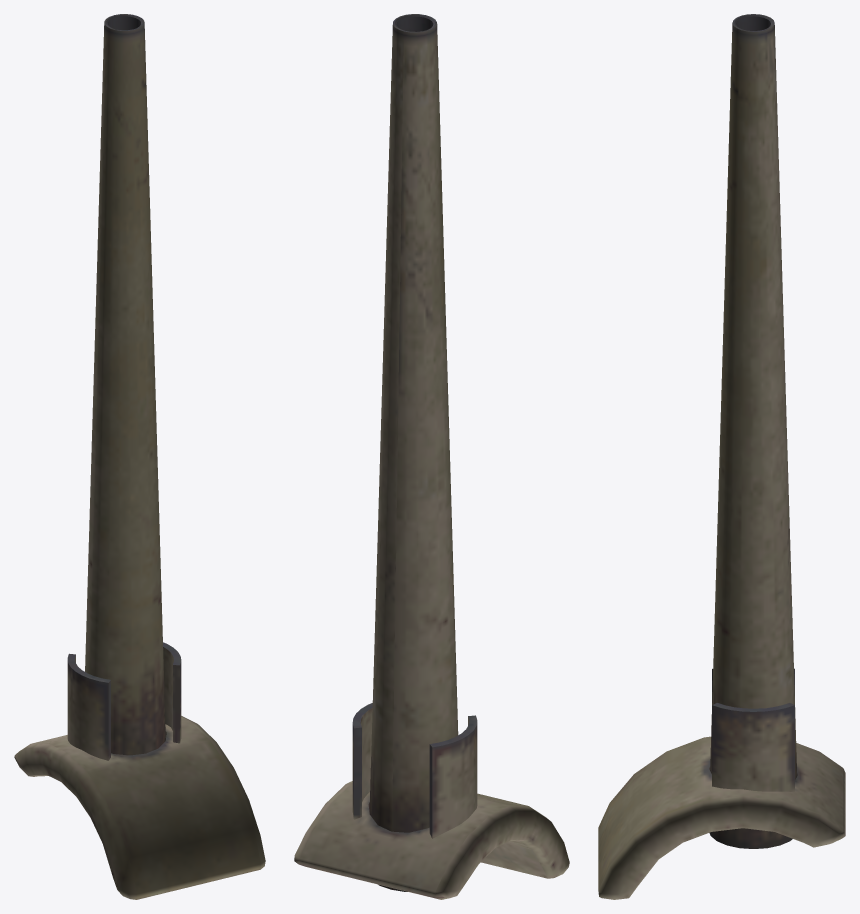
File: Gun_01.glb
3 views of the same model, side by side, from view 1: azimuth 30°, elevation 25°; view 2: azimuth 150°, elevation 25°; view 3: azimuth 270°, elevation 25° (orthographic). The views are drawn at different scales.
Visible parts, largest first — view 1: set_0_group_0; view 2: set_0_group_0; view 3: set_0_group_0.
Boxes of the visible parts, x1,y1,x2,y2 form: set_0_group_0: [14, 14, 265, 899]; set_0_group_0: [294, 14, 569, 899]; set_0_group_0: [598, 14, 845, 899].
Bounding box in the file's own units: 0.3657 × 2 × 0.5292.
Materials: 1 (1 with a texture image).
